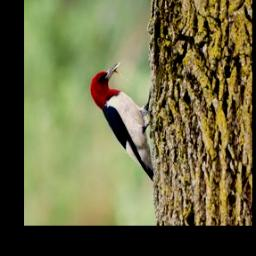Woodpecker: (89, 62, 153, 180)
